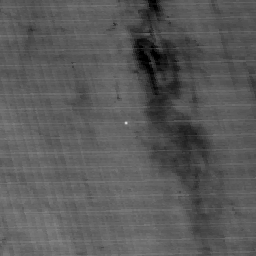Target: (123, 119, 129, 126)
